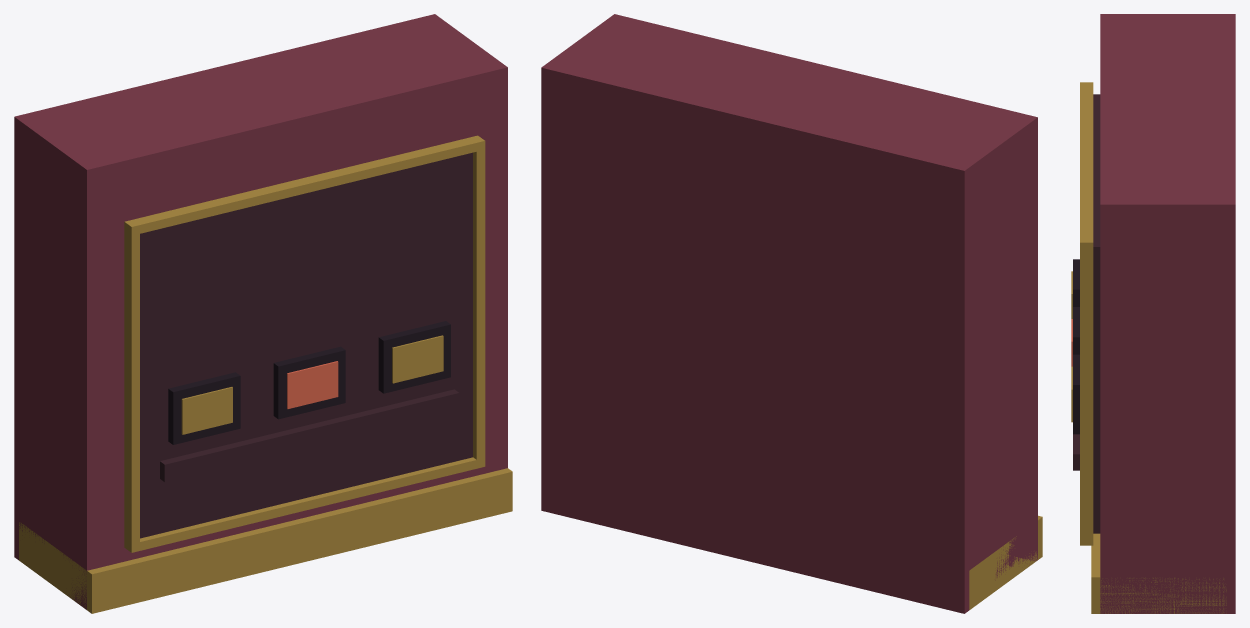
Rendered from criminal_wall_detail.glb.
3 renders of one model, left to right at view 1: azimuth 30°, elevation 25°; view 2: azimuth 150°, elevation 25°; view 3: azimuth 270°, elevation 25°, orthographic. The views are drawn at different scales.
Visible parts, largest first — view 1: criminal_wall_detail; view 2: criminal_wall_detail; view 3: criminal_wall_detail.
Boxes of the visible parts, left/top/right/bottom form: criminal_wall_detail: left=14, top=14, right=512, bottom=613; criminal_wall_detail: left=541, top=14, right=1042, bottom=613; criminal_wall_detail: left=1071, top=14, right=1235, bottom=613.
Bounding box in the file's own units: 1 × 1 × 0.364.
